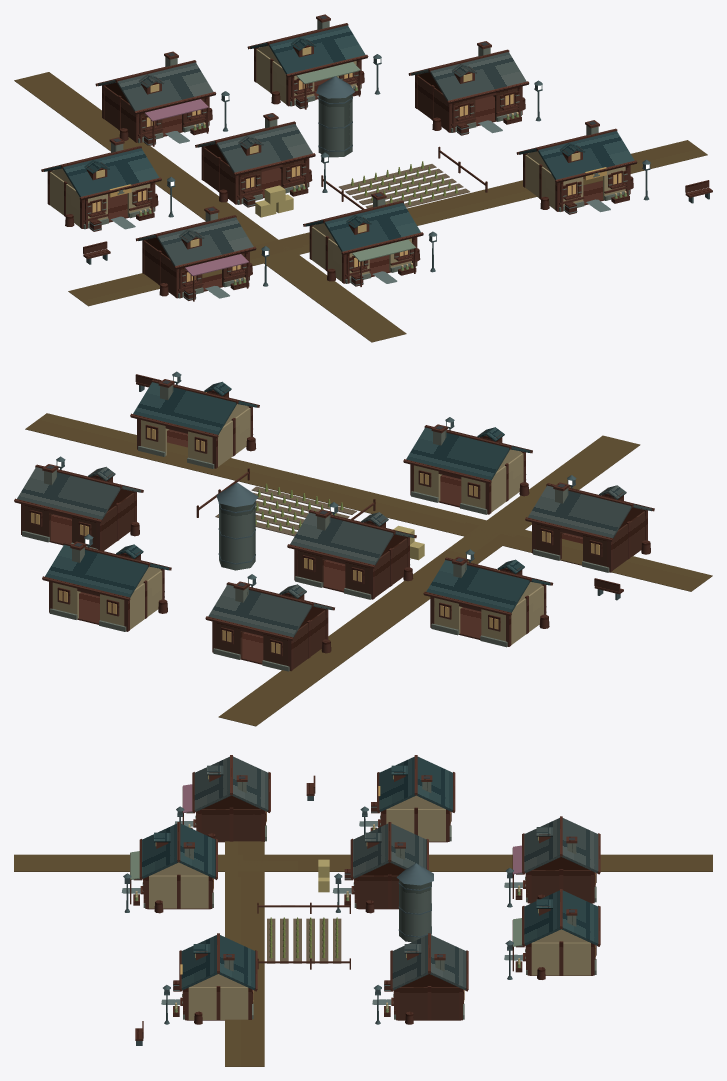
Rendered from farm.glb.
3 renders of one model, top to bottom at view 1: azimuth 30°, elevation 25°; view 2: azimuth 150°, elevation 25°; view 3: azimuth 270°, elevation 25°, orthographic. The views are drawn at different scales.
Parts seen in each view (by area): view 1: Street, _MeshInstance3D_2353, _MeshInstance3D_1920, _MeshInstance3D_2154, _MeshInstance3D_2095, _MeshInstance3D_2036, _MeshInstance3D_2270, _MeshInstance3D_2329, _MeshInstance3D_1978, _MeshInstance3D_2212, _MeshInstance3D_1805, _MeshInstance3D_2776 (+12 smaller); view 2: Street, _MeshInstance3D_2353, _MeshInstance3D_2575, _MeshInstance3D_2748, _MeshInstance3D_2676, _MeshInstance3D_2713, _MeshInstance3D_2783, _MeshInstance3D_2608, RoofSlope, _MeshInstance3D_2643, _MeshInstance3D_1805, _MeshInstance3D_2636 (+18 smaller); view 3: Street, _MeshInstance3D_2353, _MeshInstance3D_2762, _MeshInstance3D_2622, _MeshInstance3D_2657, _MeshInstance3D_2690, _MeshInstance3D_2589, _MeshInstance3D_1805, _MeshInstance3D_2727, _MeshInstance3D_2556, _MeshInstance3D_2783, _MeshInstance3D_2748 (+16 smaller).
Part boxes in pixels (<box>): Street: <box>14,72,406,342</box>; _MeshInstance3D_2353: <box>68,140,707,306</box>; _MeshInstance3D_1920: <box>216,124,312,172</box>; _MeshInstance3D_2154: <box>430,52,526,100</box>; _MeshInstance3D_2095: <box>324,203,420,251</box>; _MeshInstance3D_2036: <box>157,217,253,266</box>; _MeshInstance3D_2270: <box>117,62,213,111</box>; _MeshInstance3D_2329: <box>269,25,365,74</box>; _MeshInstance3D_1978: <box>63,148,159,196</box>; _MeshInstance3D_2212: <box>538,131,634,179</box>; _MeshInstance3D_1805: <box>318,94,352,157</box>; _MeshInstance3D_2776: <box>256,49,286,103</box>; Street: <box>218,435,640,726</box>; _MeshInstance3D_2353: <box>25,413,712,591</box>; _MeshInstance3D_2575: <box>426,560,529,612</box>; _MeshInstance3D_2748: <box>208,584,311,637</box>; _MeshInstance3D_2676: <box>17,467,120,519</box>; _MeshInstance3D_2713: <box>133,382,236,434</box>; _MeshInstance3D_2783: <box>45,545,148,597</box>; _MeshInstance3D_2608: <box>528,485,631,538</box>; RoofSlope: <box>290,512,393,565</box>; _MeshInstance3D_2643: <box>406,427,509,480</box>; _MeshInstance3D_1805: <box>219,501,255,570</box>; _MeshInstance3D_2636: <box>491,453,523,512</box>; Street: <box>14,854,712,871</box>; _MeshInstance3D_2353: <box>225,841,264,1066</box>; _MeshInstance3D_2762: <box>531,942,590,975</box>; _MeshInstance3D_2622: <box>149,875,208,908</box>; _MeshInstance3D_2657: <box>399,987,459,1019</box>; _MeshInstance3D_2690: <box>188,987,248,1019</box>; _MeshInstance3D_2589: <box>201,809,261,841</box>; _MeshInstance3D_1805: <box>399,880,431,942</box>; _MeshInstance3D_2727: <box>531,870,590,902</box>; _MeshInstance3D_2556: <box>386,809,445,841</box>; _MeshInstance3D_2783: <box>561,890,598,945</box>; _MeshInstance3D_2748: <box>561,818,598,872</box>.
Bounding box in the file's own units: 53 × 6.19 × 53.
142 materials, 10 textured.
